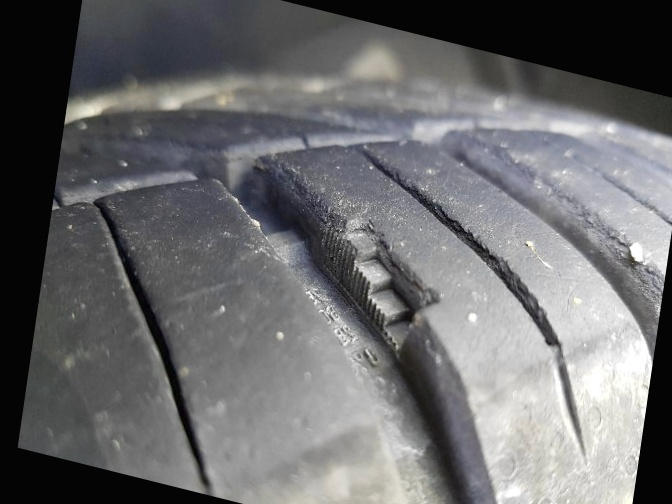temoin:90: (286, 187, 461, 380)
